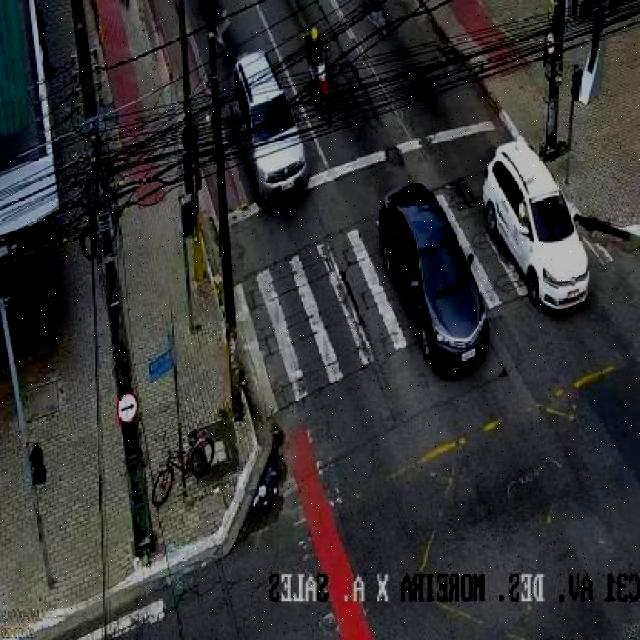Car: (384, 179, 486, 391), (484, 128, 588, 310), (222, 64, 316, 210)
Cycle: (134, 428, 231, 512), (298, 30, 350, 119)
